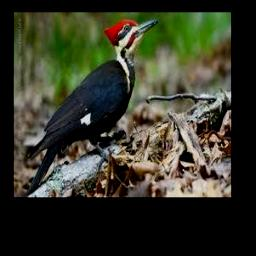Woodpecker: (22, 19, 158, 197)
